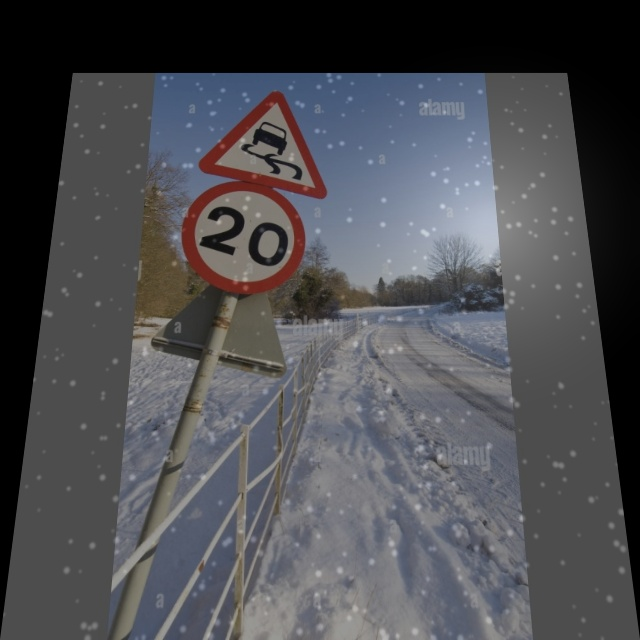Slippery_Road: (198, 91, 332, 191)
